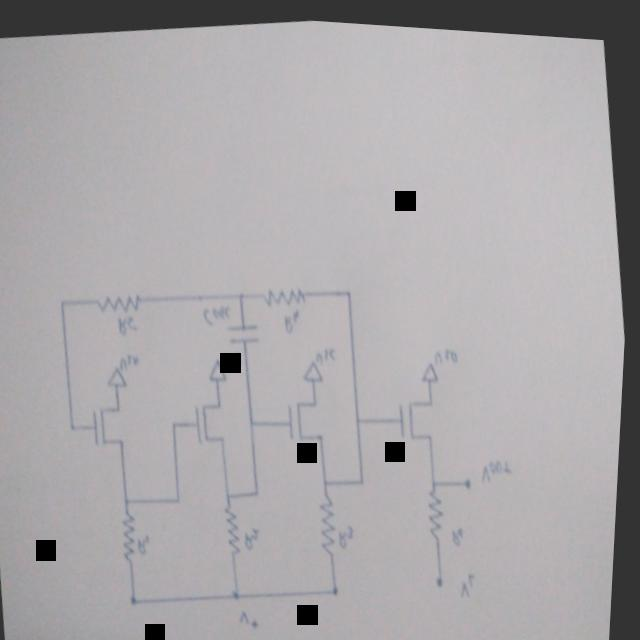capacitor: (224, 314, 264, 346)
ground: (107, 362, 131, 390), (303, 354, 327, 378), (209, 354, 231, 379), (421, 354, 441, 378)
junction: (235, 584, 247, 597), (132, 592, 143, 605), (334, 580, 345, 593), (125, 493, 135, 505), (360, 469, 370, 481), (174, 414, 182, 427), (176, 492, 186, 502), (61, 295, 69, 307), (238, 288, 246, 299), (357, 408, 365, 419), (347, 282, 354, 294), (251, 413, 258, 425), (432, 472, 441, 481), (71, 420, 78, 431), (228, 487, 236, 496), (325, 473, 333, 482), (256, 484, 263, 493)
resistor: (317, 483, 346, 551), (96, 285, 151, 315), (260, 276, 308, 306), (121, 507, 145, 563), (225, 500, 249, 554), (428, 480, 452, 534)
terminal: (463, 469, 478, 484), (438, 568, 451, 584)
text: (483, 450, 516, 477), (241, 600, 269, 629), (460, 564, 486, 593), (204, 299, 233, 324), (282, 302, 305, 330), (117, 311, 142, 335), (435, 339, 463, 359), (119, 349, 144, 369), (246, 522, 266, 547), (340, 518, 360, 543), (222, 345, 245, 365), (315, 340, 339, 359), (140, 531, 157, 553), (454, 518, 468, 539)
transistor: (396, 389, 444, 442), (286, 391, 329, 442), (192, 393, 233, 445), (91, 400, 133, 448)
